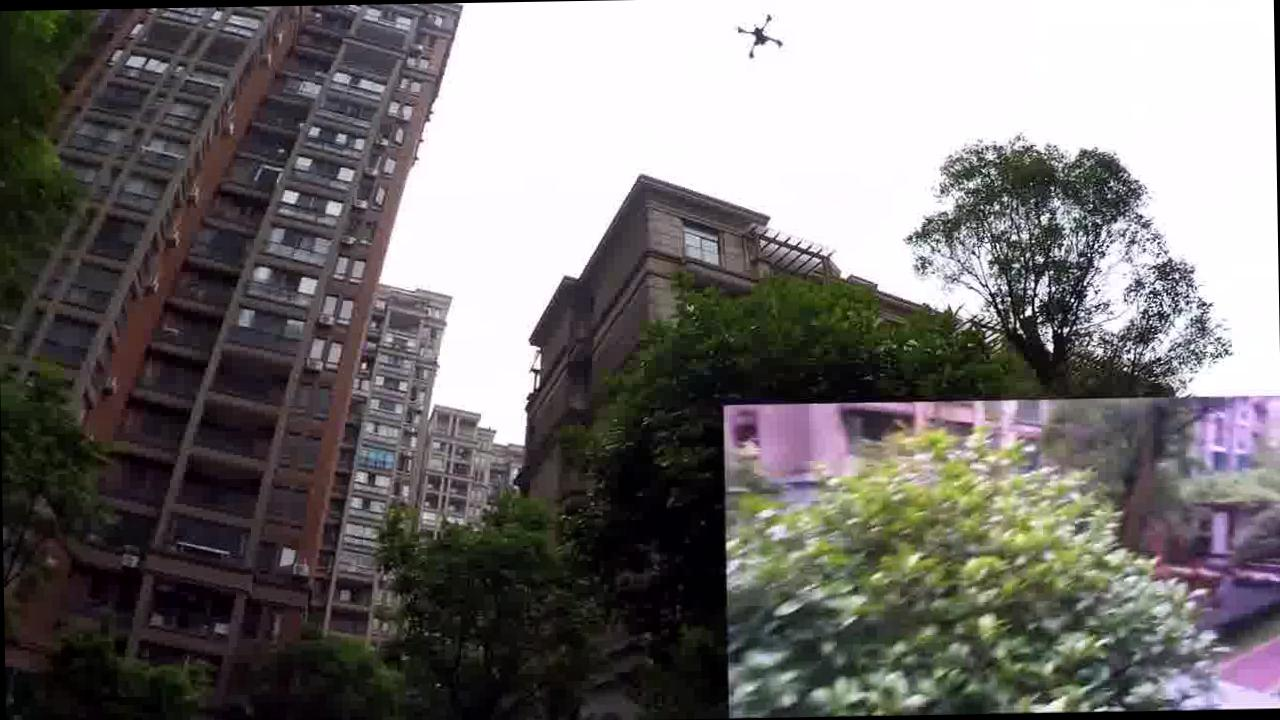drone: (724, 0, 786, 67)
